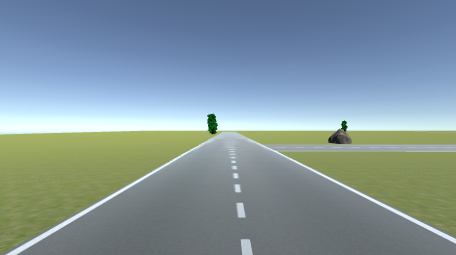rock: (327, 129, 353, 144)
tree: (206, 113, 220, 135)
